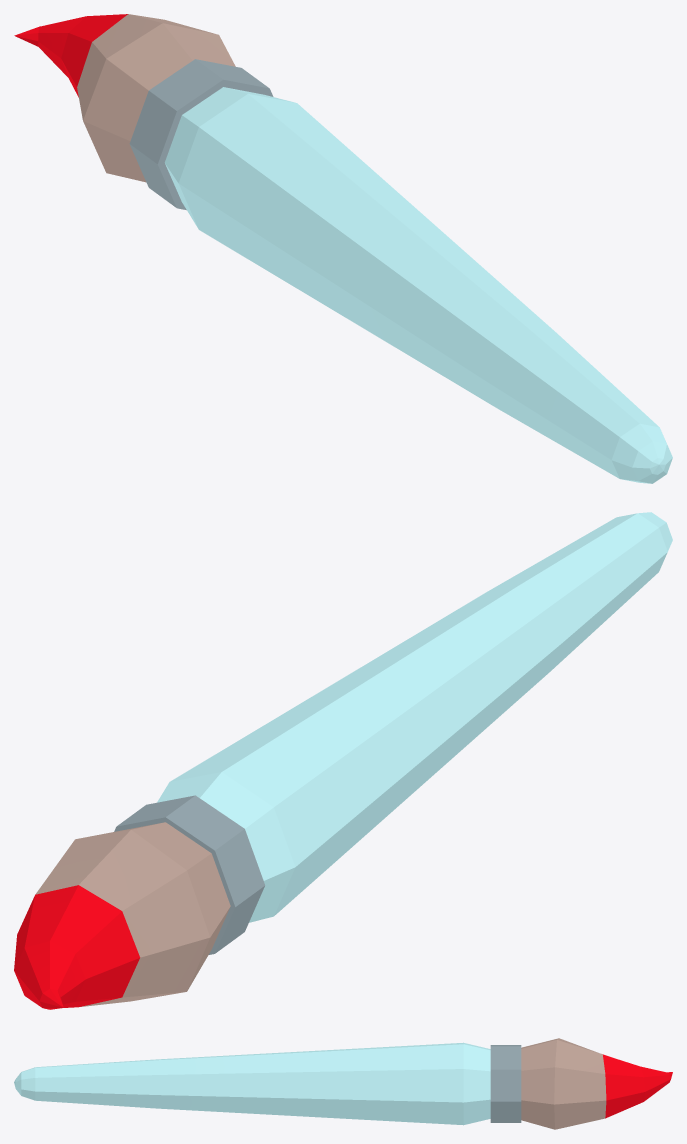
The model's file is pen.glb.
The picture shows the model from 3 angles, top to bottom: view 1: azimuth 30°, elevation 25°; view 2: azimuth 150°, elevation 25°; view 3: azimuth 270°, elevation 25°; orthographic projection. The views are drawn at different scales.
Parts seen in each view (by area): view 1: Paintbrush_01; view 2: Paintbrush_01; view 3: Paintbrush_01.
Part boxes in pixels (x1,y1,x2,y2): Paintbrush_01: (14,14,672,483); Paintbrush_01: (14,512,672,1009); Paintbrush_01: (14,1038,672,1129).
Size of the model in its own units: 0.0297 by 0.0298 by 0.2013.
